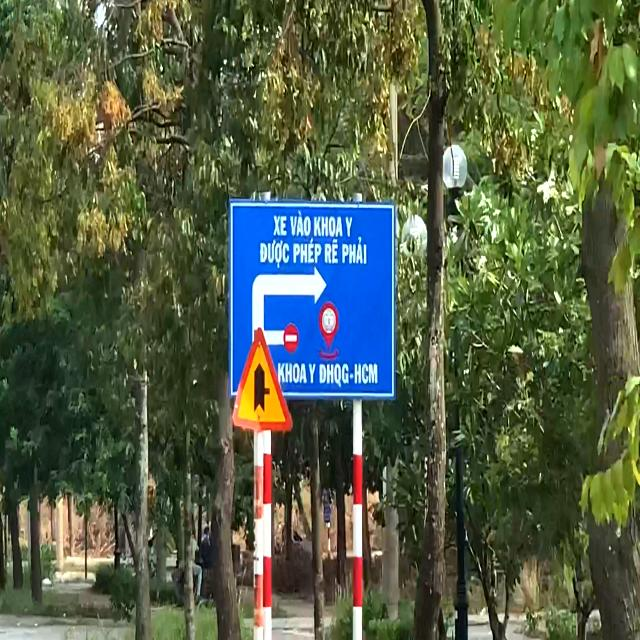W.207b: (238, 308, 307, 428)
